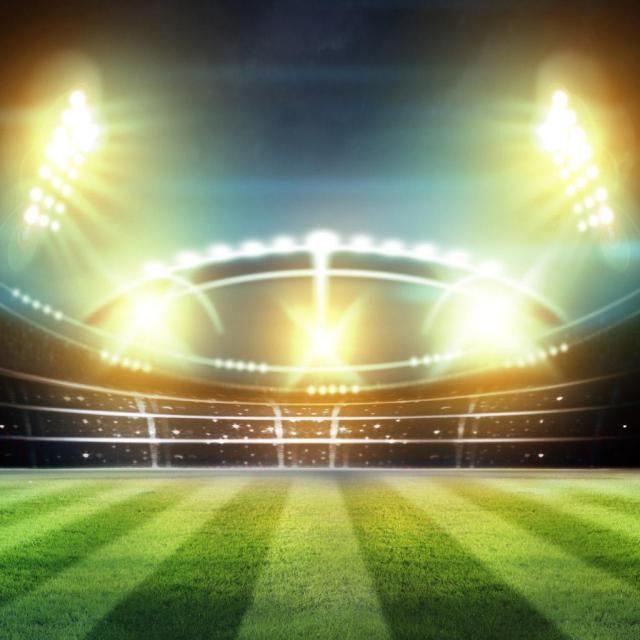other: (1, 75, 122, 253), (514, 81, 618, 228), (284, 291, 370, 387), (446, 276, 537, 364), (124, 266, 193, 360)
